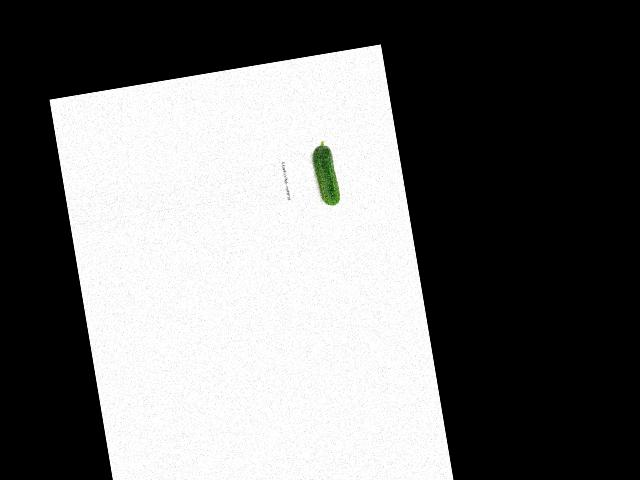cucumber: (310, 139, 341, 208)
